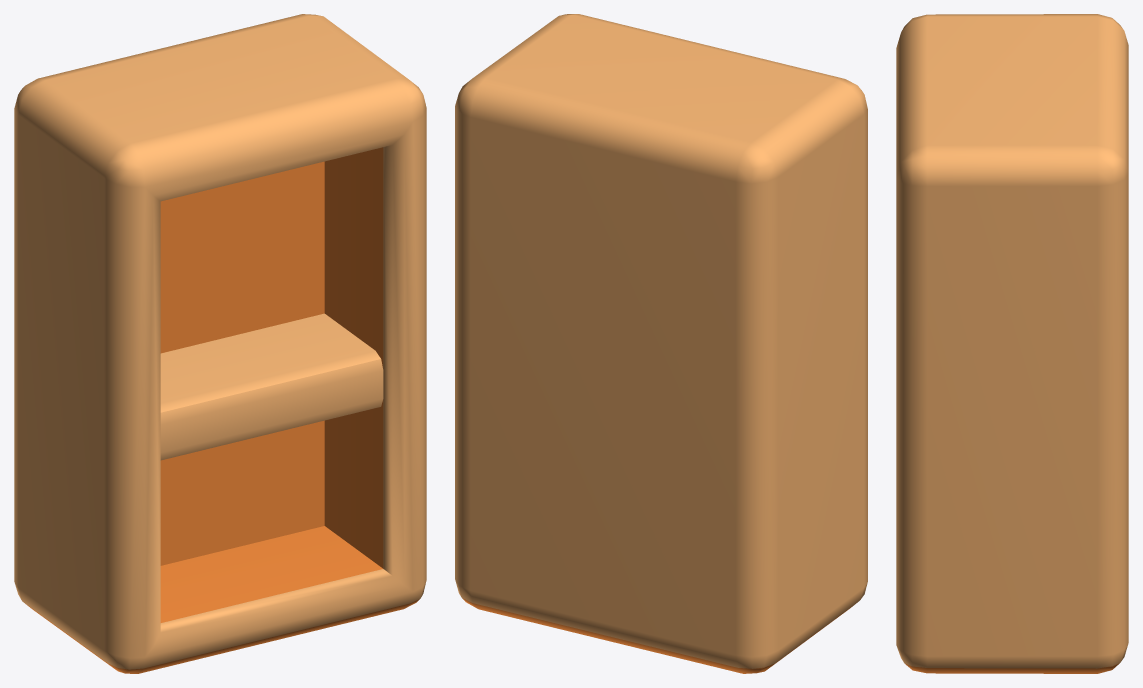
Rendered from nicho_cozinha_natal_aberto_pacote.glb.
3 renders of one model, left to right at view 1: azimuth 30°, elevation 25°; view 2: azimuth 150°, elevation 25°; view 3: azimuth 270°, elevation 25°, orthographic.
Visible parts, largest first — view 1: nicho_cozinha_natal_aberto_pacote; view 2: nicho_cozinha_natal_aberto_pacote; view 3: nicho_cozinha_natal_aberto_pacote.
Part boxes in pixels (x1=…): nicho_cozinha_natal_aberto_pacote: x1=14, y1=14, x2=426, y2=673; nicho_cozinha_natal_aberto_pacote: x1=455, y1=14, x2=867, y2=673; nicho_cozinha_natal_aberto_pacote: x1=896, y1=14, x2=1128, y2=673.
Bounding box in the file's own units: 0.5026 × 0.7971 × 0.3188.
Materials: 1 (1 with a texture image).
